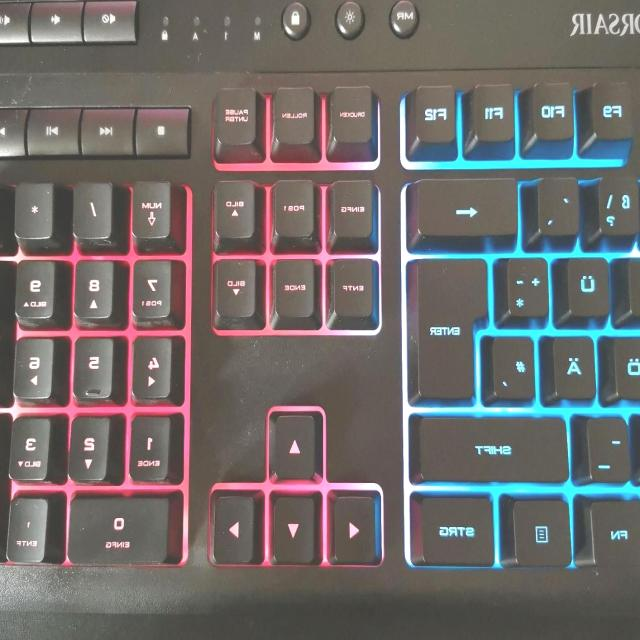accent: (538, 174, 582, 238)
ae: (553, 334, 598, 400)
del: (414, 175, 522, 239)
enter: (414, 251, 488, 405)
hash: (492, 333, 537, 402)
keyboard: (0, 69, 640, 587)
minus: (587, 413, 633, 483)
oe: (614, 334, 640, 400)
p: (622, 254, 640, 317)
plus: (506, 253, 550, 320)
shift-right: (415, 413, 573, 483)
ss: (597, 173, 640, 237)
strg-right: (413, 490, 498, 566)
ue: (566, 254, 612, 316)
